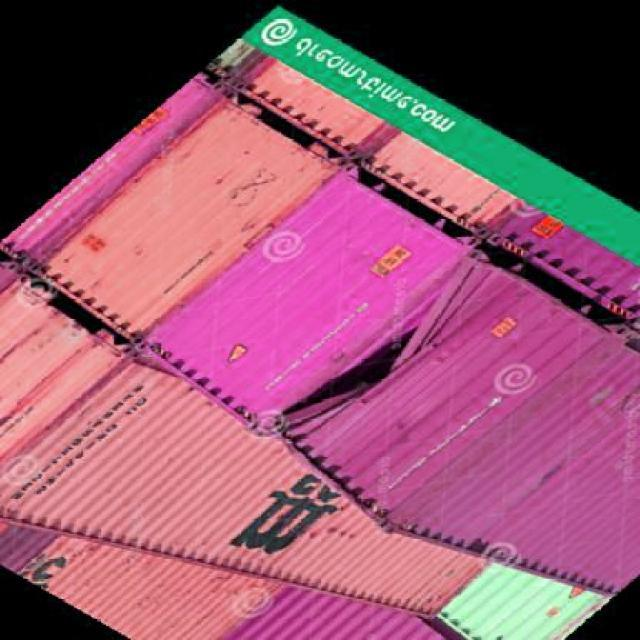hole: (315, 274, 423, 456)
